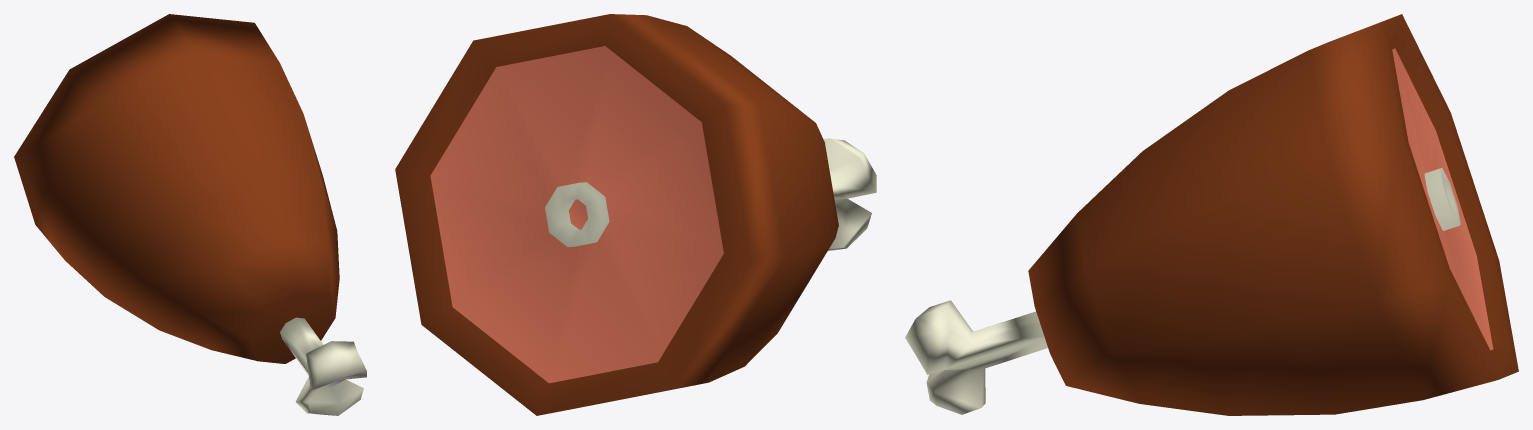
File: steak.glb
The picture shows the model from 3 angles, left to right: view 1: azimuth 30°, elevation 25°; view 2: azimuth 150°, elevation 25°; view 3: azimuth 270°, elevation 25°; orthographic projection. The views are drawn at different scales.
Visible parts, largest first — view 1: Cylinder; view 2: Cylinder; view 3: Cylinder.
Part boxes in pixels (box(x1,y1,x2,y2)): Cylinder: box(14, 14, 366, 415); Cylinder: box(395, 14, 876, 415); Cylinder: box(905, 14, 1518, 415).
Bounding box in the file's own units: 0.9163 × 0.964 × 1.38.
